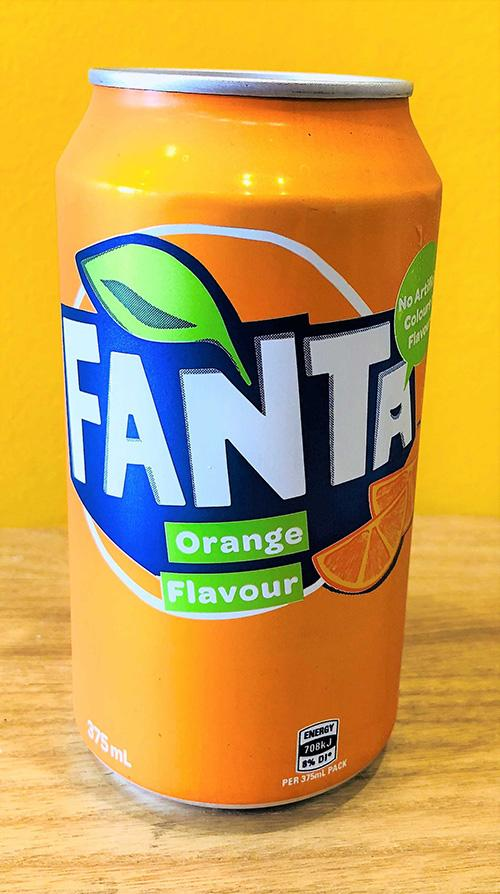metal: (55, 69, 441, 808)
